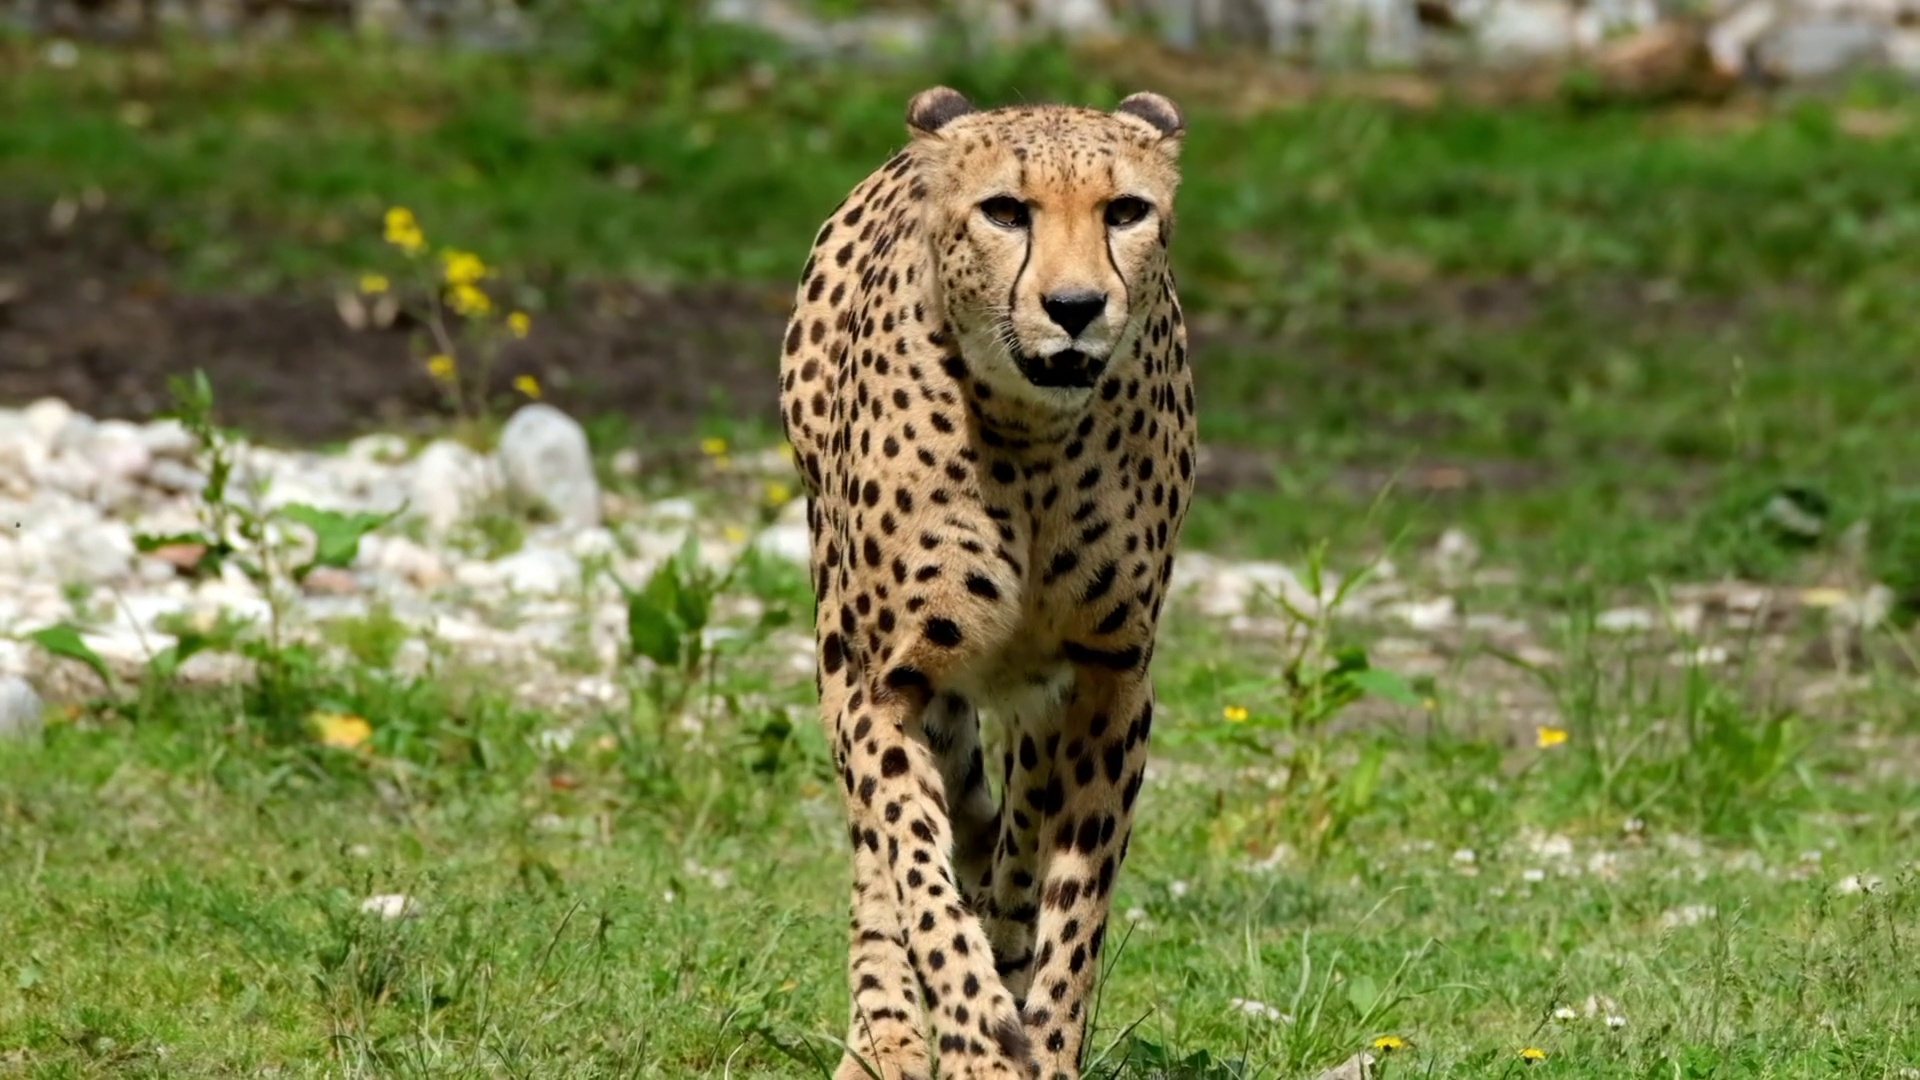Cheetah: (775, 84, 1203, 1080)
